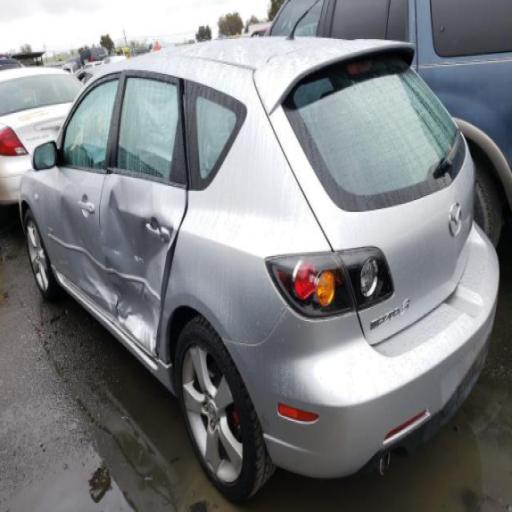dent: (90, 186, 168, 357), (49, 196, 91, 286)
